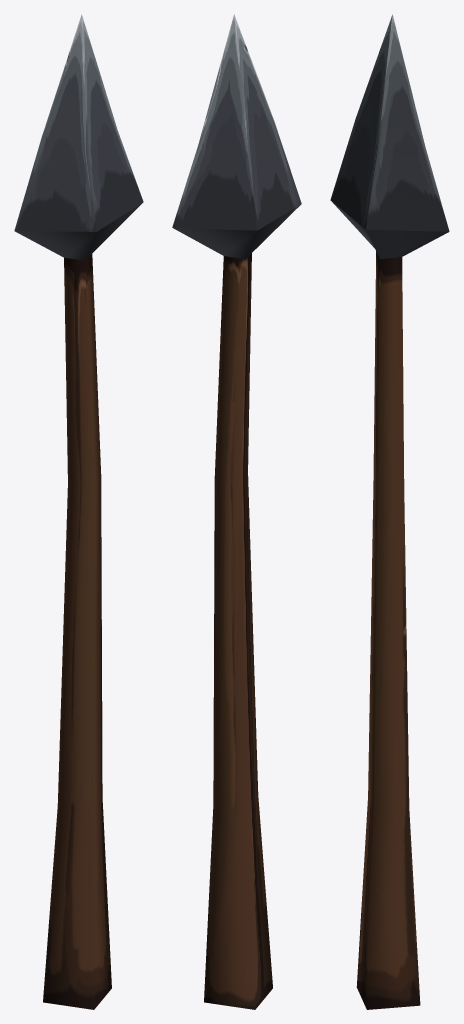
File: SM_PROP_trap_arrow_dungeon_02.fbx
3 views of the same model, side by side, from view 1: azimuth 30°, elevation 25°; view 2: azimuth 210°, elevation 25°; view 3: azimuth 330°, elevation 25° (orthographic).
Visible parts, largest first — view 1: SM_PROP_trap_arrow_dungeon_02; view 2: SM_PROP_trap_arrow_dungeon_02; view 3: SM_PROP_trap_arrow_dungeon_02.
Part boxes in pixels (left/top/right/bottom): SM_PROP_trap_arrow_dungeon_02: left=14, top=14, right=143, bottom=1009; SM_PROP_trap_arrow_dungeon_02: left=172, top=14, right=301, bottom=1009; SM_PROP_trap_arrow_dungeon_02: left=330, top=14, right=449, bottom=1009.
Size of the model in its own units: 18.88 by 143 by 11.07.
